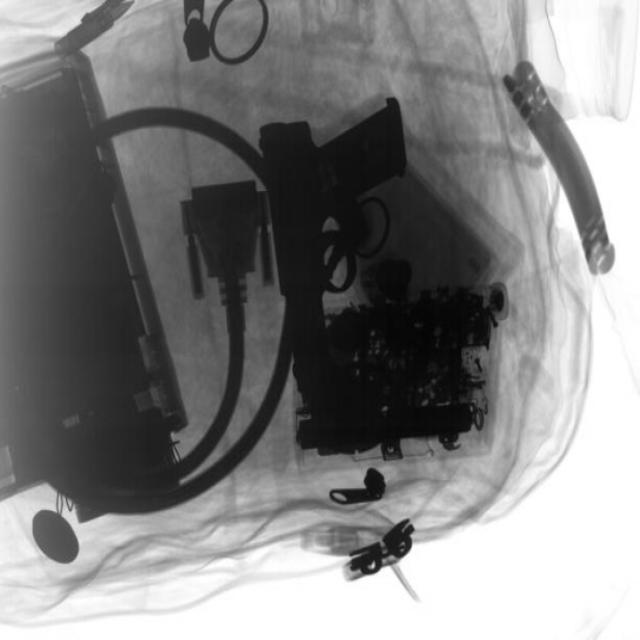GUN: (262, 104, 415, 378)
